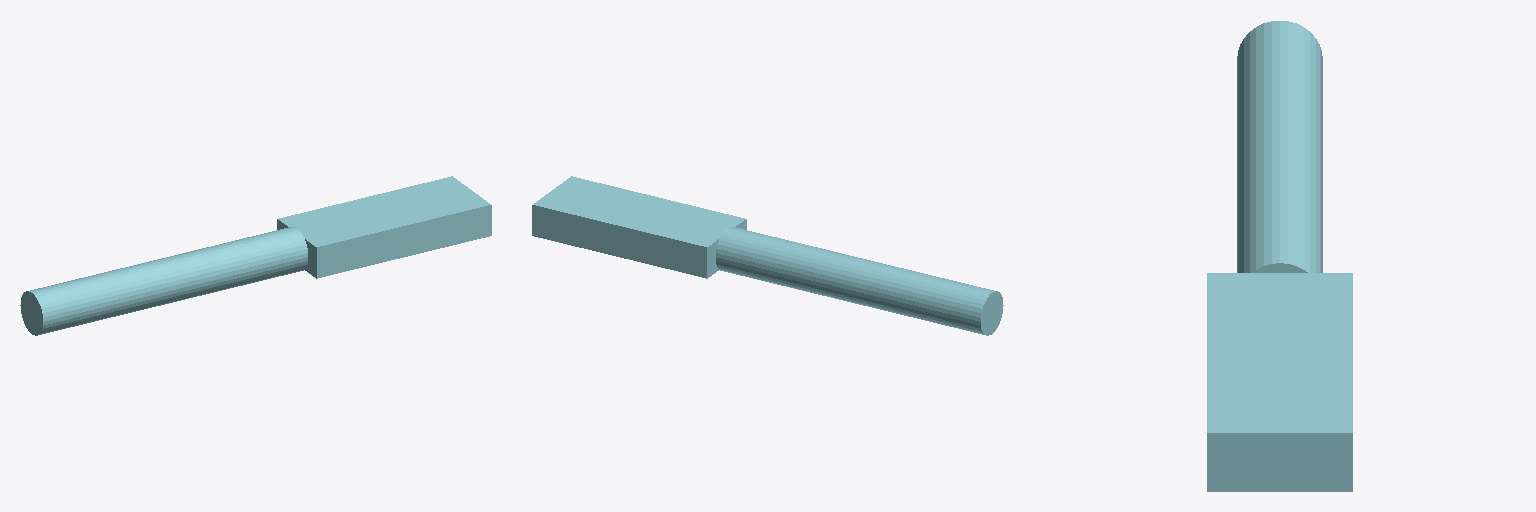
URDF robot description (cylinder_spatula_v6009):
<?xml version="1.0"?>
<robot name="cylinder_spatula_v6009">

  <link name="cylinder_spatula_v6009">
    <!-- Handle -->
    <visual>
      <origin xyz="0 0 0" rpy="0 1.5707963267948966 0"/>
      <geometry>
        <cylinder length="0.18668014382619266" radius="0.013926300889795466"/>
      </geometry>
      <material name="material">
        <color rgba="0.639 0.847 0.882 1.0"/>
      </material>
    </visual>
    <collision>
      <origin xyz="0 0 0" rpy="0 1.5707963267948966 0"/>
      <geometry>
        <cylinder length="0.18668014382619266" radius="0.013926300889795466"/>
      </geometry>
    </collision>

    <!-- Head -->
    <visual>
      <origin xyz="0.15496074706278573 0 0" rpy="0 0 0"/>
      <geometry>
        <box size="0.12324135029937877 0.04760354798109474 0.021062076048225502"/>
      </geometry>
      <material name="material">
        <color rgba="0.639 0.847 0.882 1.0"/>
      </material>
    </visual>
    <collision>
      <origin xyz="0.15496074706278573 0 0" rpy="0 0 0"/>
      <geometry>
        <box size="0.12324135029937877 0.04760354798109474 0.021062076048225502"/>
      </geometry>
    </collision>

    <inertial>
      <density value="400.0"/>
    </inertial>
  </link>

</robot>

--- Render facts (derived) ---
3 views of the same robot in one strip: view 1: azimuth 30°, elevation 25°; view 2: azimuth 150°, elevation 25°; view 3: azimuth 270°, elevation 25° (orthographic).
Model cylinder_spatula_v6009 with 1 links and 0 joints (none), rooted at cylinder_spatula_v6009, posed every joint at zero.
Links seen in each view (by area): view 1: cylinder_spatula_v6009; view 2: cylinder_spatula_v6009; view 3: cylinder_spatula_v6009.
Link boxes in pixels (left/top/right/bottom): cylinder_spatula_v6009: left=20, top=176, right=491, bottom=335; cylinder_spatula_v6009: left=532, top=176, right=1003, bottom=335; cylinder_spatula_v6009: left=1207, top=21, right=1352, bottom=491.
Size in the robot's own frame: 0.3099 by 0.0476 by 0.0279 metres.
Geometry: primitives only (box / cylinder / sphere), no mesh files.
